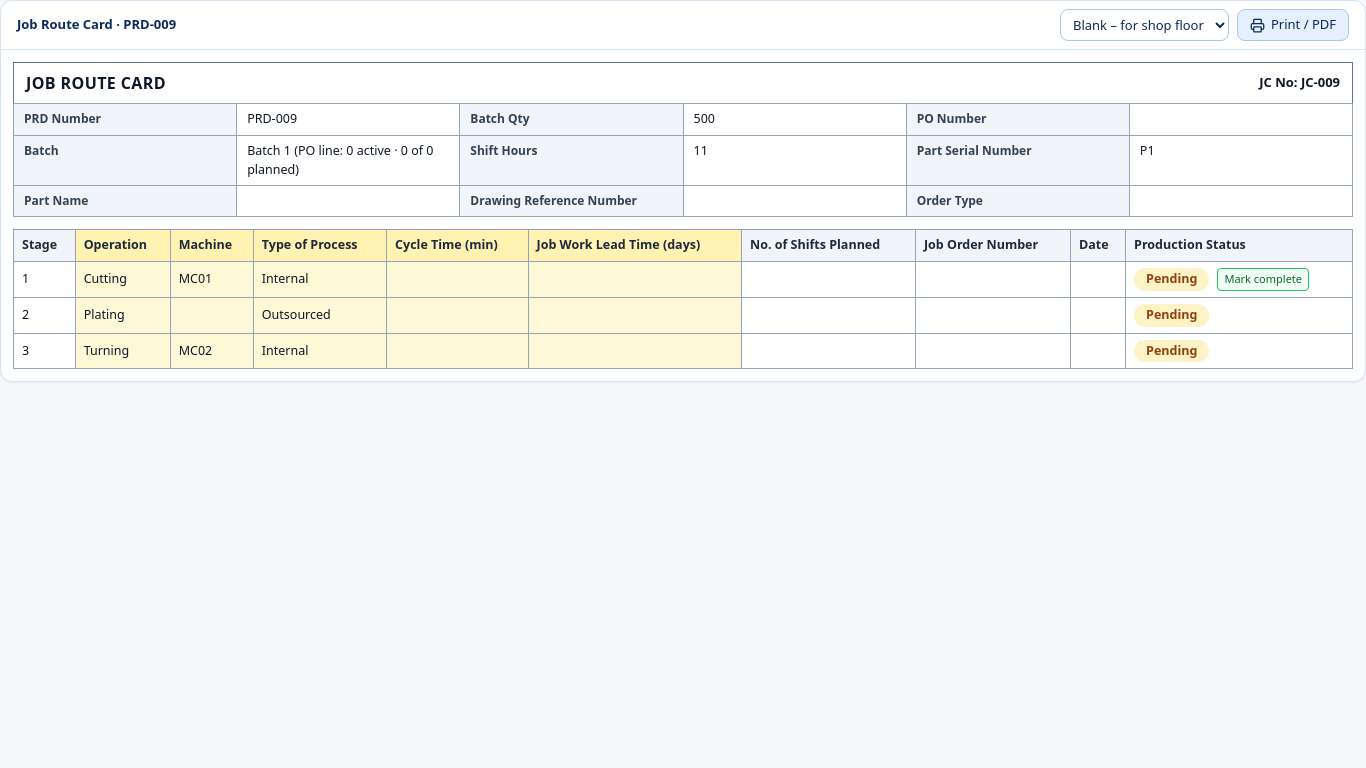
Test case: Job Route Card -- Mark complete › confirm: same prompt as Data Entry, completes and reloads
The image size is (1366, 768).
Expected: the text "Cutting" is shown, [75,262,170,297]
Click the button with aria-label "Mark stage 1 complete" at (1263, 279), box [1217,268,1309,290]
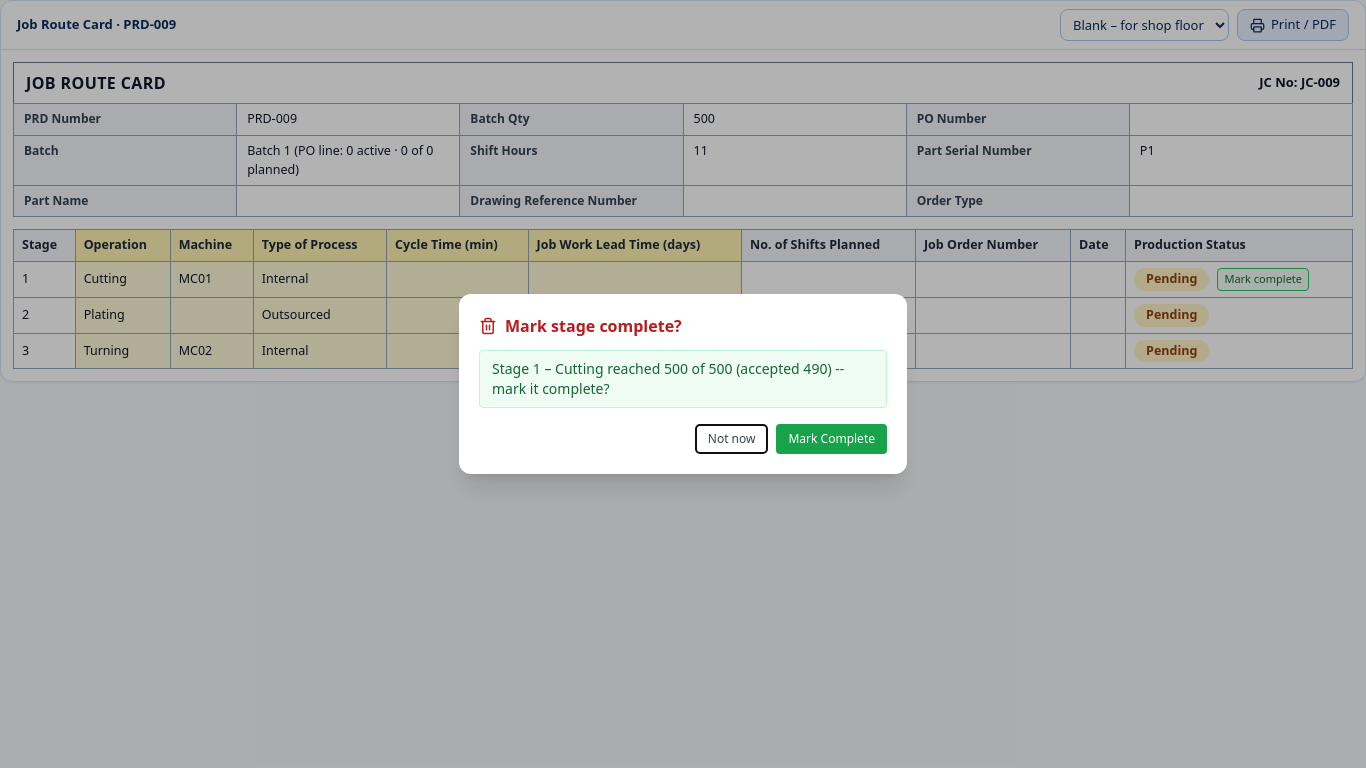
Expected: the dialog shows "Stage 1 – Cutting reached 500 of 500 (accepted 490) -- mark it complete?", [492,359,844,398]
Click the button "Mark Complete" at (832, 439), box [776,424,887,454]
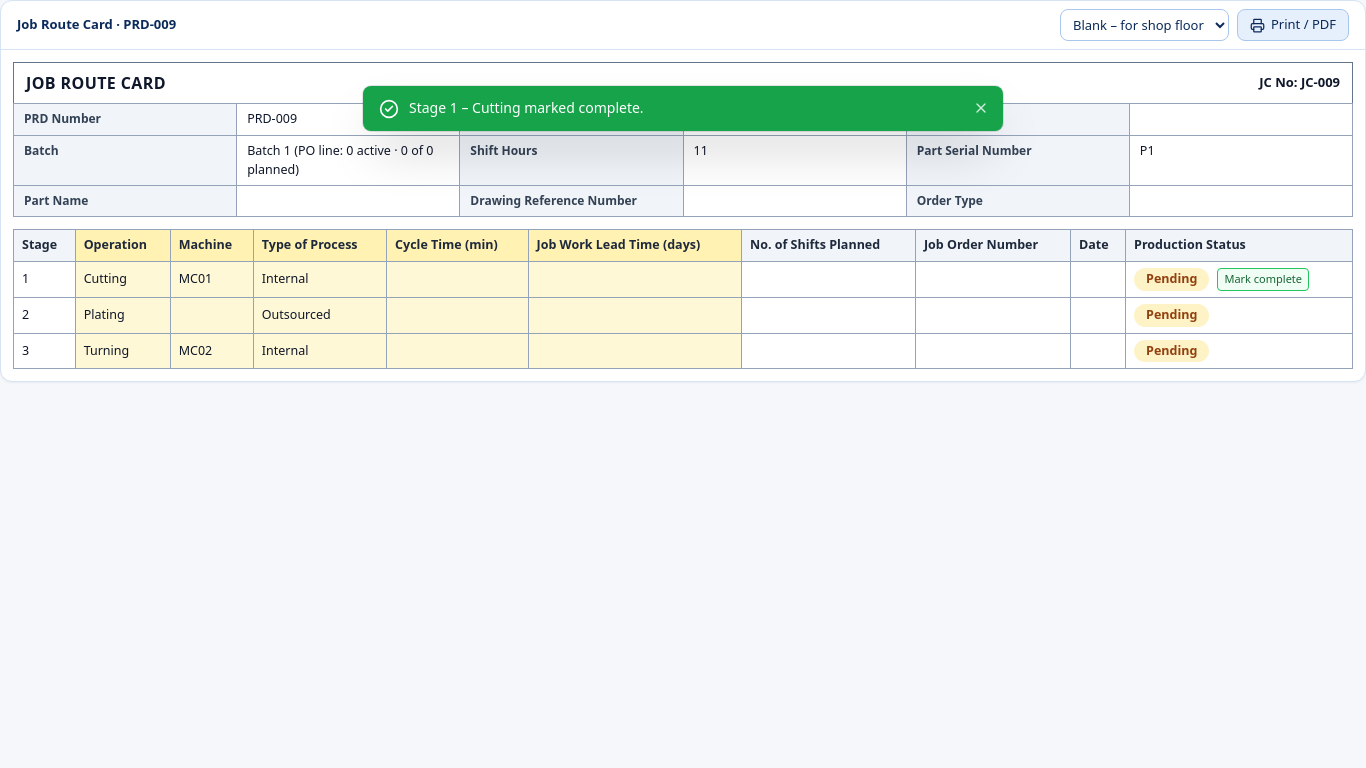
Expected: the text "Stage 1 – Cutting marked complete." is shown, [409,98,644,117]
